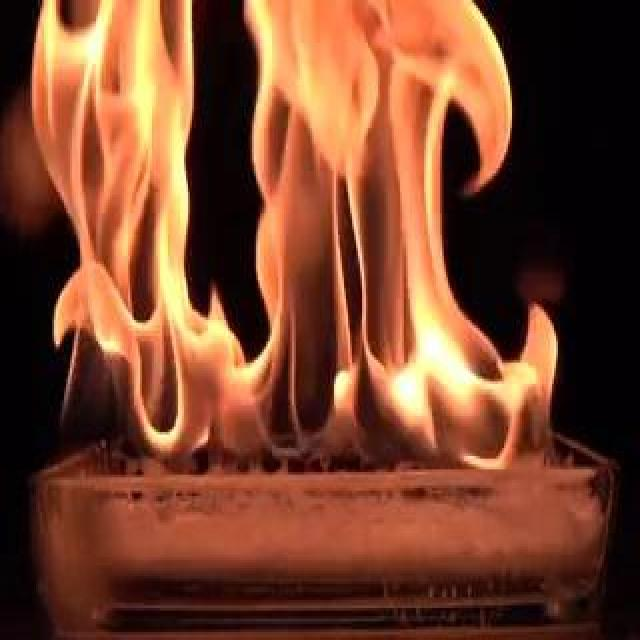Fire: (48, 2, 574, 482)
